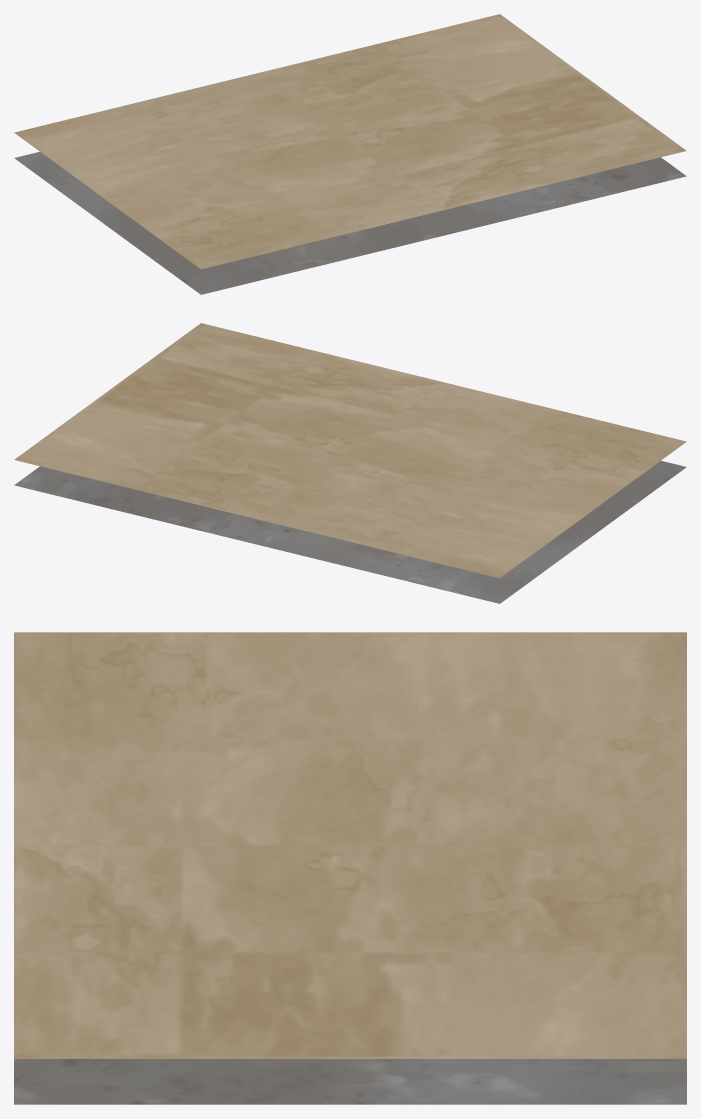
The model's file is floor_inset.glb.
3 renders of one model, top to bottom at view 1: azimuth 30°, elevation 25°; view 2: azimuth 150°, elevation 25°; view 3: azimuth 270°, elevation 25°, orthographic. The views are drawn at different scales.
Visible parts, largest first — view 1: Floor_Inset; view 2: Floor_Inset; view 3: Floor_Inset.
Part boxes in pixels (x1,y1,x2,y2): Floor_Inset: (14,14,686,294); Floor_Inset: (14,323,686,603); Floor_Inset: (14,632,686,1104).
Bounding box in the file's own units: 2 × 0.1 × 1.33.
Materials: 2 (2 with a texture image).
